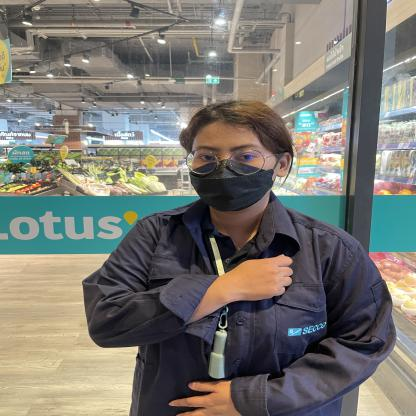Sadness: (104, 231, 337, 332)
